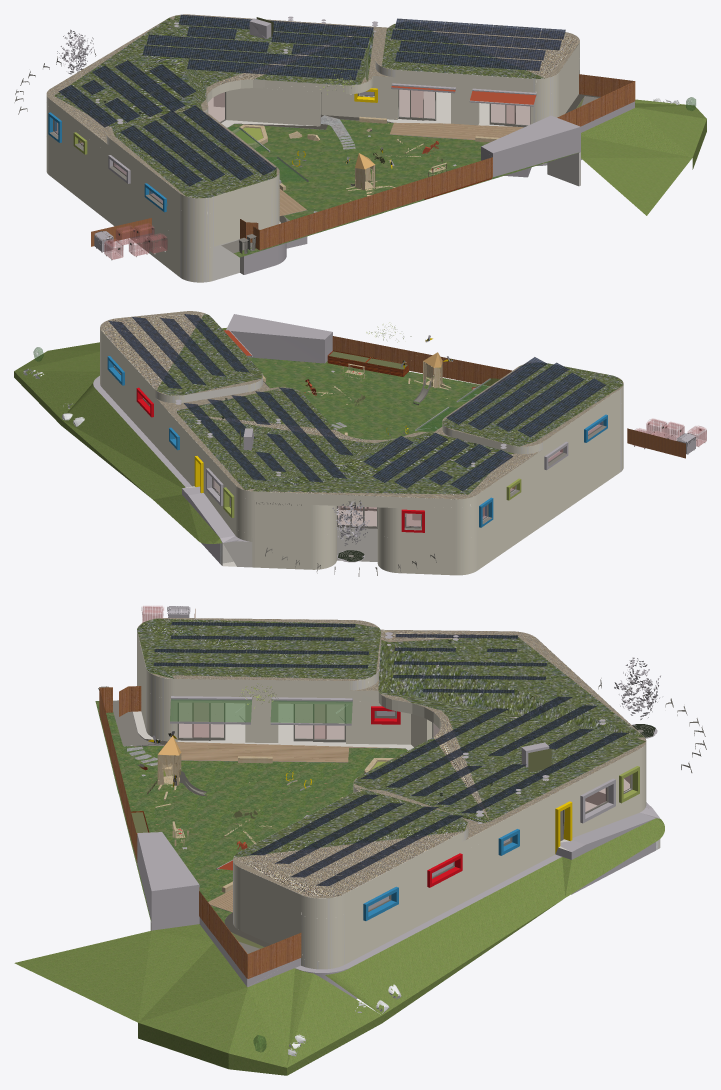
The model's file is hustopece.glb.
3 views of the same model, one above another, from view 1: azimuth 30°, elevation 25°; view 2: azimuth 150°, elevation 25°; view 3: azimuth 270°, elevation 25° (orthographic). The views are drawn at different scales.
Parts seen in each view (by area): view 1: hustopece_architecture; view 2: hustopece_architecture; view 3: hustopece_architecture.
Part boxes in pixels (x1,y1,x2,y2): hustopece_architecture: (14,14,706,282); hustopece_architecture: (14,311,706,576); hustopece_architecture: (14,606,706,1075).
Size of the model in its own units: 53.34 by 10.47 by 39.83.
29 materials, 12 textured.
